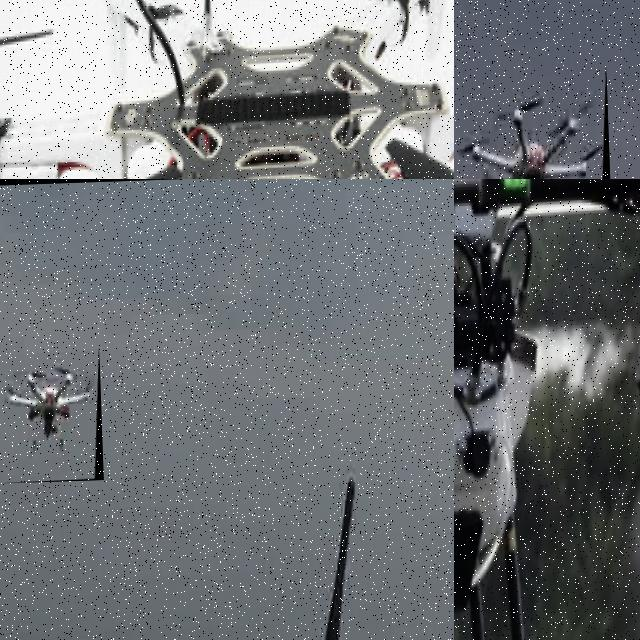0: (454, 66, 613, 179), (0, 347, 104, 483)
drone: (454, 179, 640, 640), (0, 0, 454, 179)
